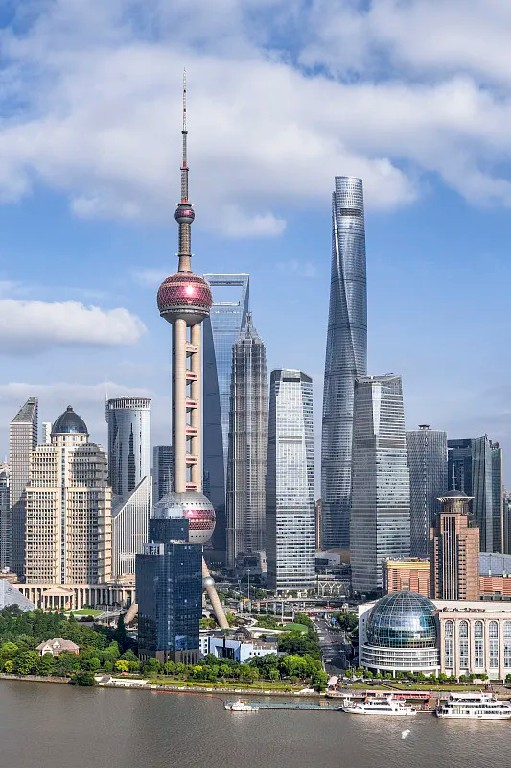Oriental: (156, 68, 229, 629)
